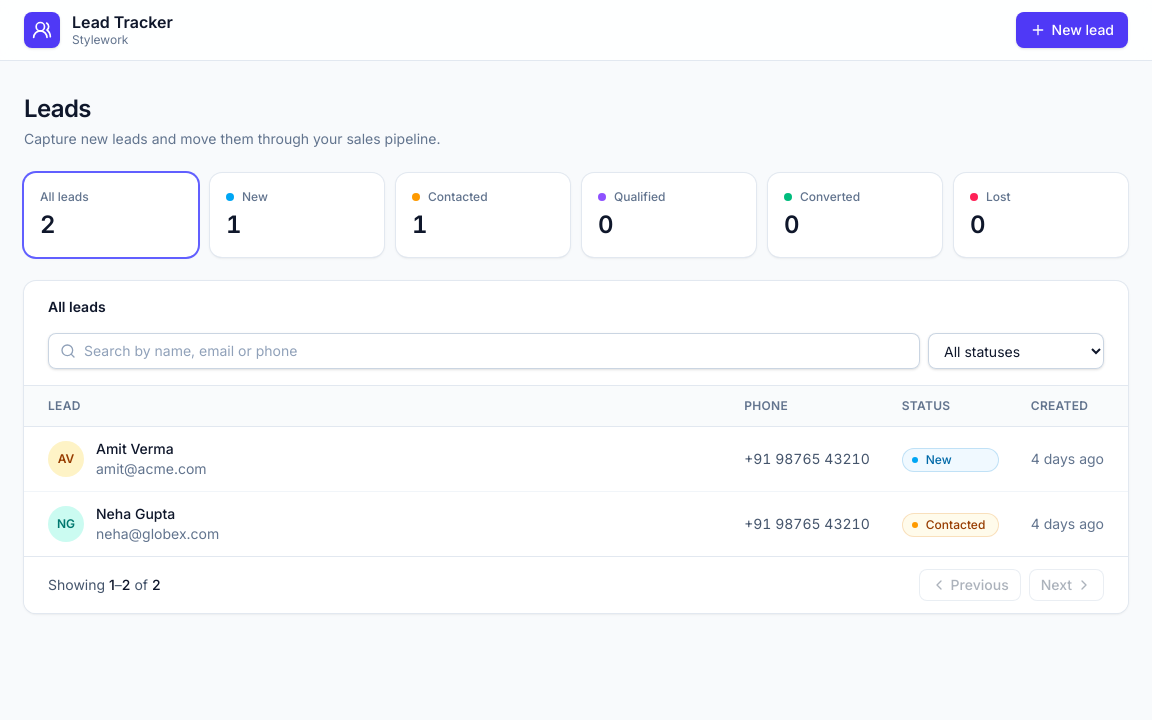
Test: App › rolls back the status and shows an error if the update fails
Select "Lost" in the dropdown named "Status for Amit Verma". click: (950, 460)
box: [902,448,999,472]
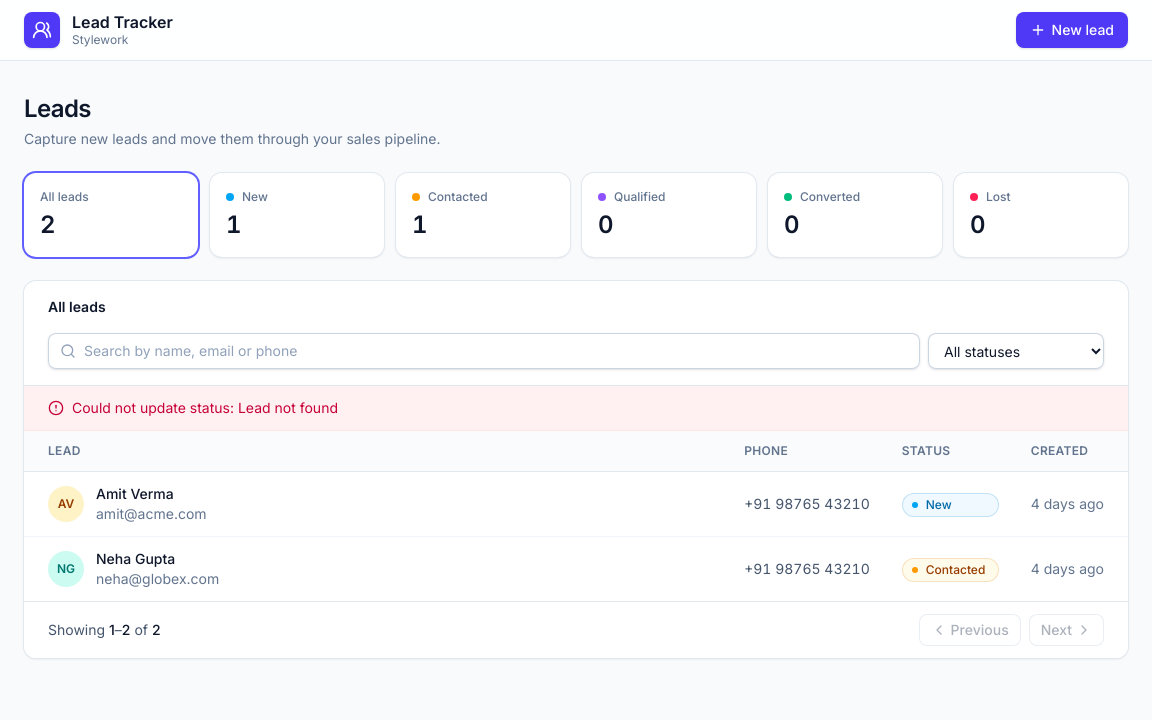
Check: the message "Could not update status: Lead not found" is shown, box [24,386,1128,431]
